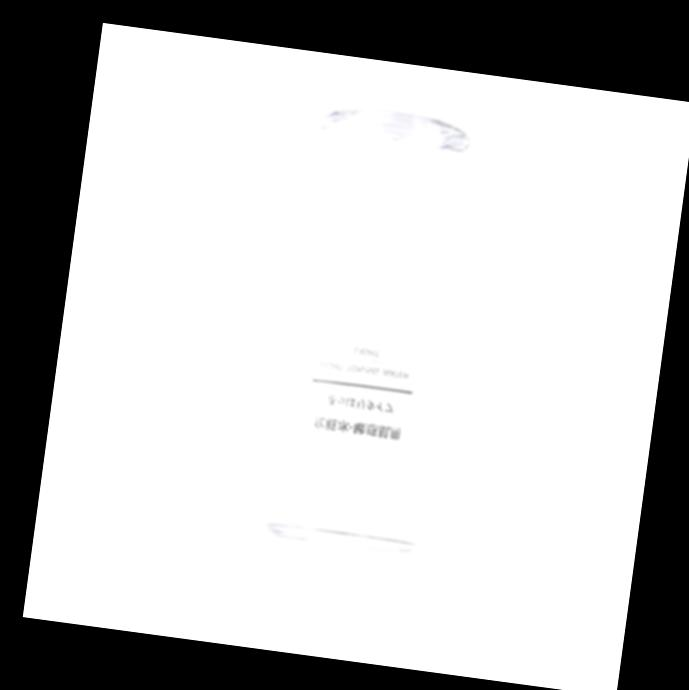cosmetic: (254, 106, 475, 615)
